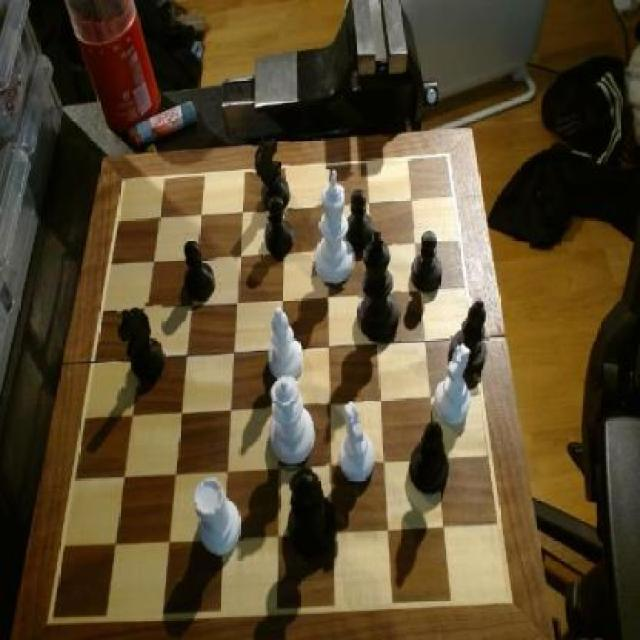bishop: (449, 297, 492, 380), (411, 420, 451, 498)
black-bishop: (355, 226, 401, 344)
black-king: (120, 303, 169, 388), (252, 134, 292, 217)
black-knight: (410, 229, 446, 297), (182, 237, 218, 302), (263, 196, 295, 256), (344, 188, 374, 249)
black-pawn: (288, 465, 338, 562)
black-rook: (268, 304, 308, 384)
white-bishop: (314, 170, 358, 288)
white-king: (434, 343, 478, 431), (337, 397, 379, 485)
white-pawn: (268, 374, 320, 470)
white-queen: (190, 474, 244, 561)
